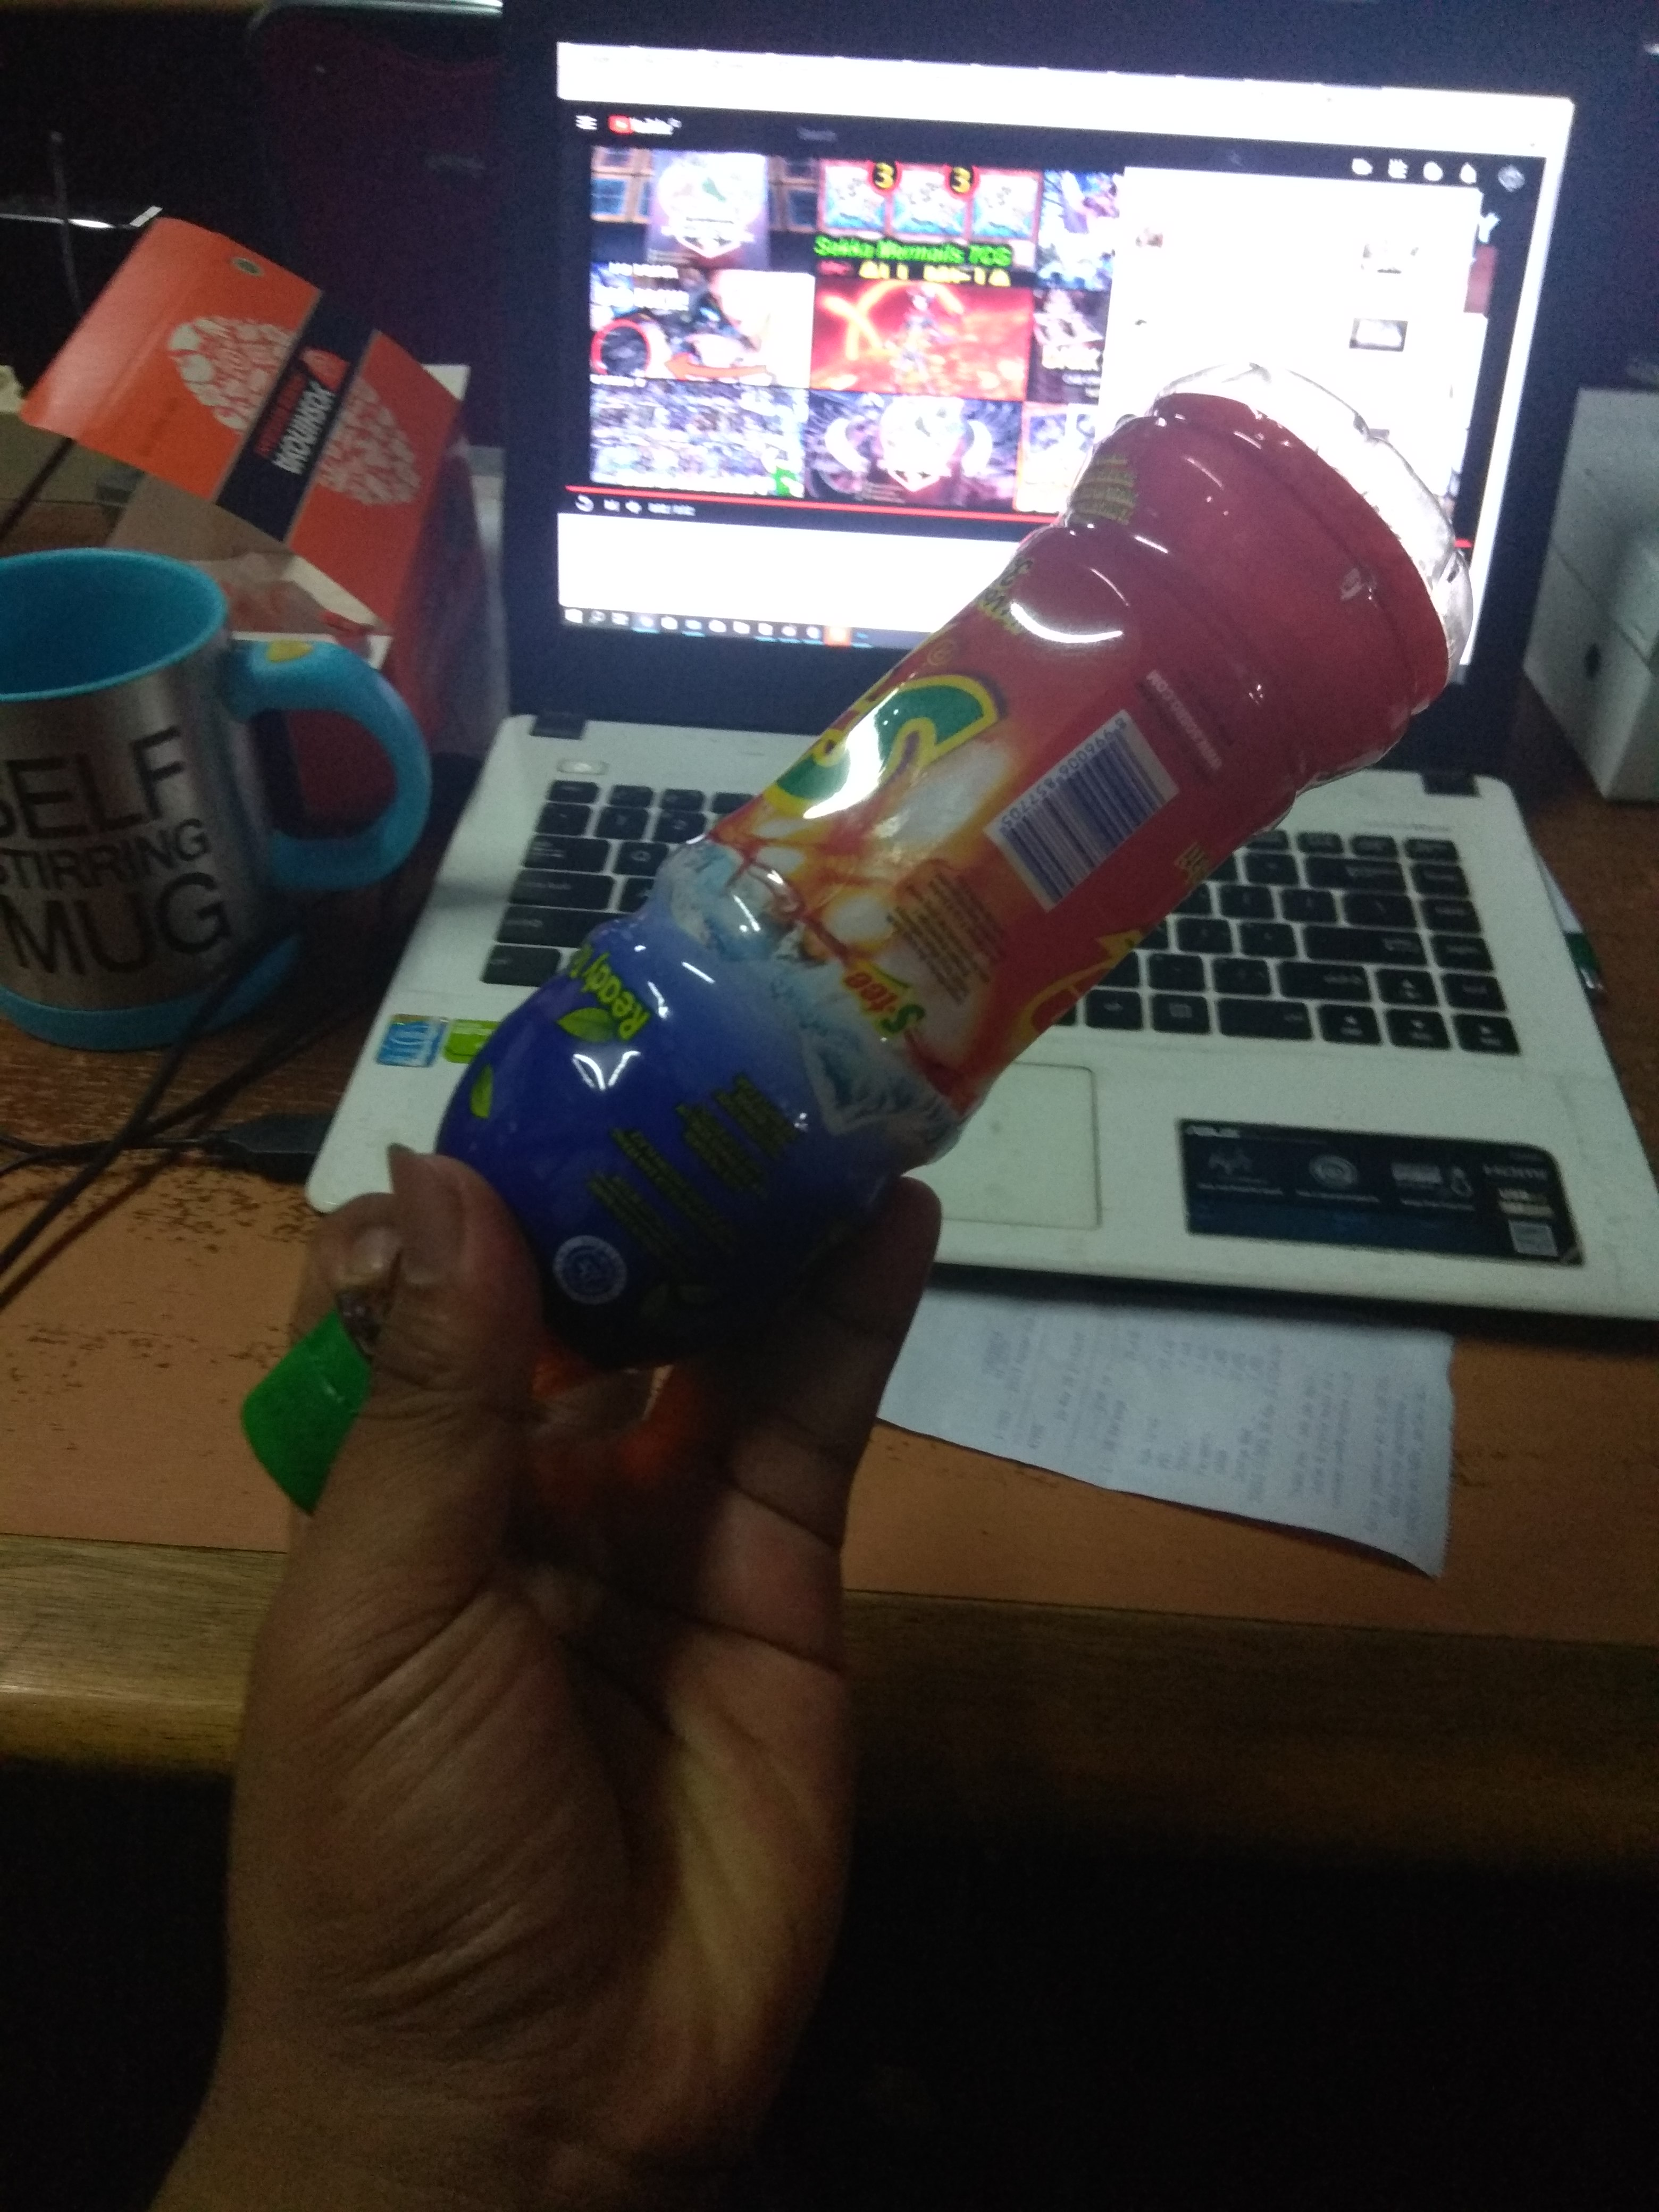botol: (207, 359, 1476, 1529), (239, 359, 1476, 1529), (239, 359, 1476, 1514)
